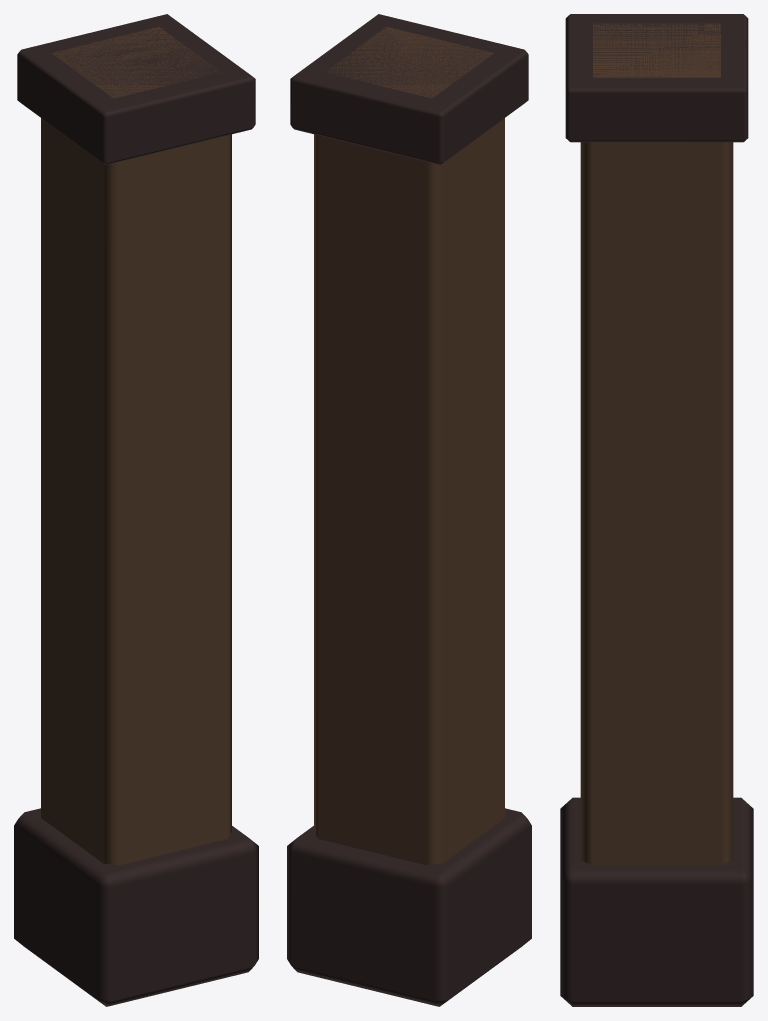
The model's file is railcar-post-t.dd15779a.glb.
The picture shows the model from 3 angles, left to right: view 1: azimuth 30°, elevation 25°; view 2: azimuth 150°, elevation 25°; view 3: azimuth 270°, elevation 25°; orthographic projection. The views are drawn at different scales.
Visible parts, largest first — view 1: body; view 2: body; view 3: body.
Part boxes in pixels (x1,y1,x2,y2): body: [14, 14, 258, 1006]; body: [287, 14, 531, 1006]; body: [560, 14, 753, 1006].
Bounding box in the file's own units: 0.38 × 2 × 0.38.
